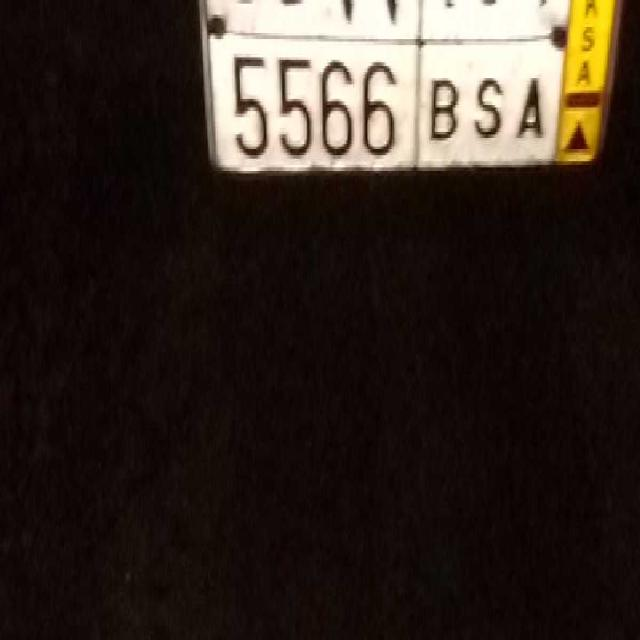license_plate: (219, 24, 557, 173)
